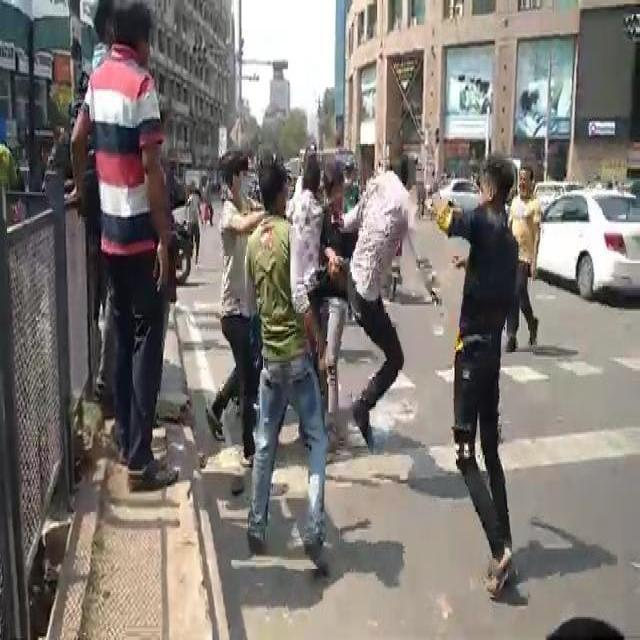fight: (218, 79, 408, 566), (64, 0, 181, 487), (421, 126, 519, 596)
